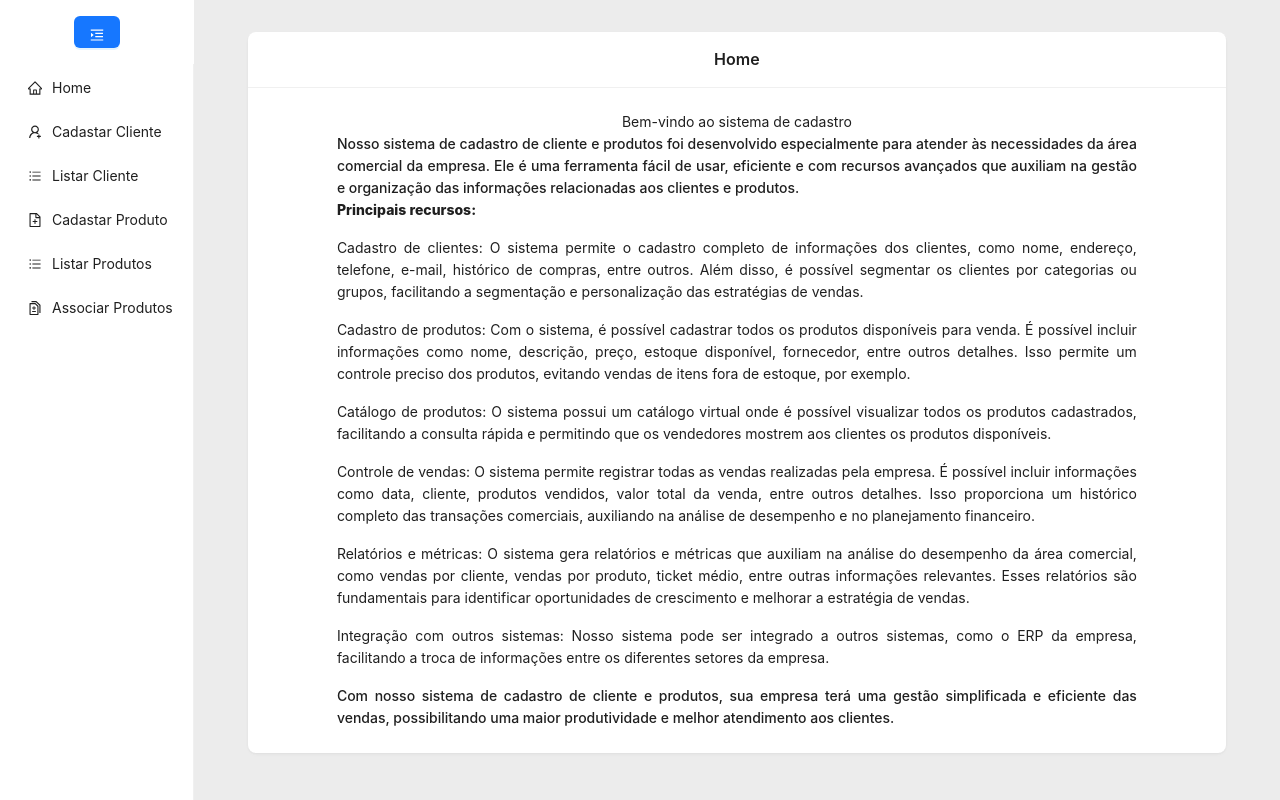
Test: Testing the customer registry page › Checking if it is possible to cancel the creation of a customer
Click the menu item "Cadastar Cliente".
click(95, 132)  # box [28,123,162,140]
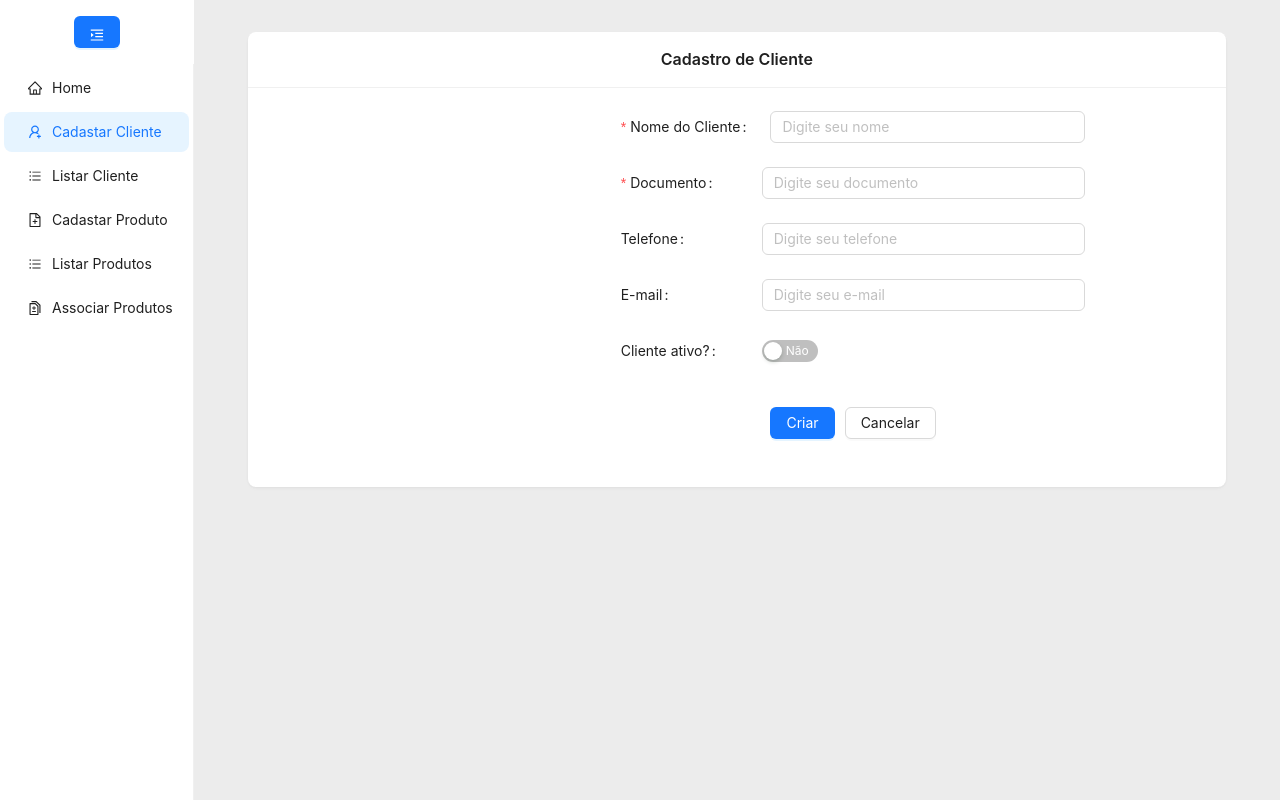
Type "João Silva" into the field with test id "form-name".
click(928, 127); type("João Silva")  # box [770,111,1085,143]
Type "joaosilva@gmail.com" into the field with test id "form-email".
click(924, 295); type("joaosilva@gmail.com")  # box [762,279,1086,311]
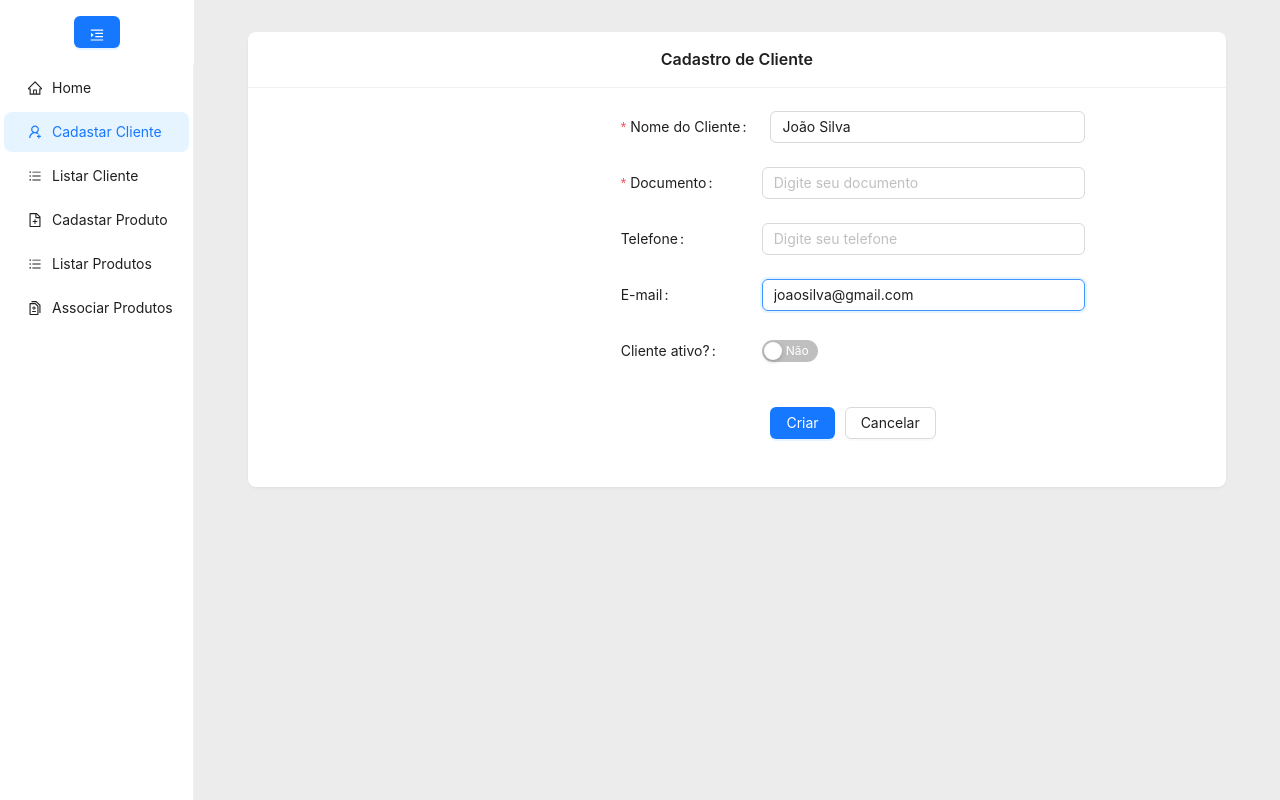
Type "14 998523514" into the field with test id "form-phone".
click(924, 239); type("14 998523514")  # box [762,223,1086,255]
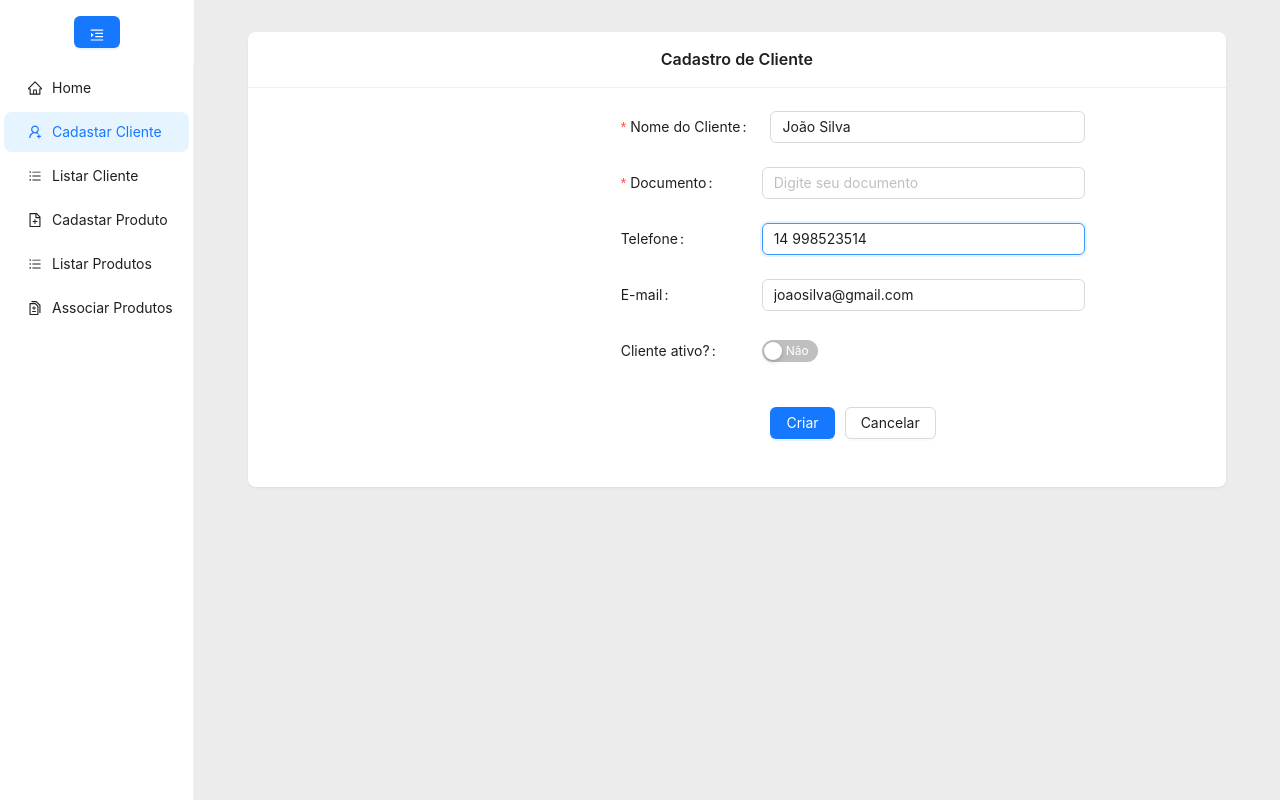
Type "782998523514" into the field with test id "form-document".
click(924, 183); type("782998523514")  # box [762,167,1086,199]
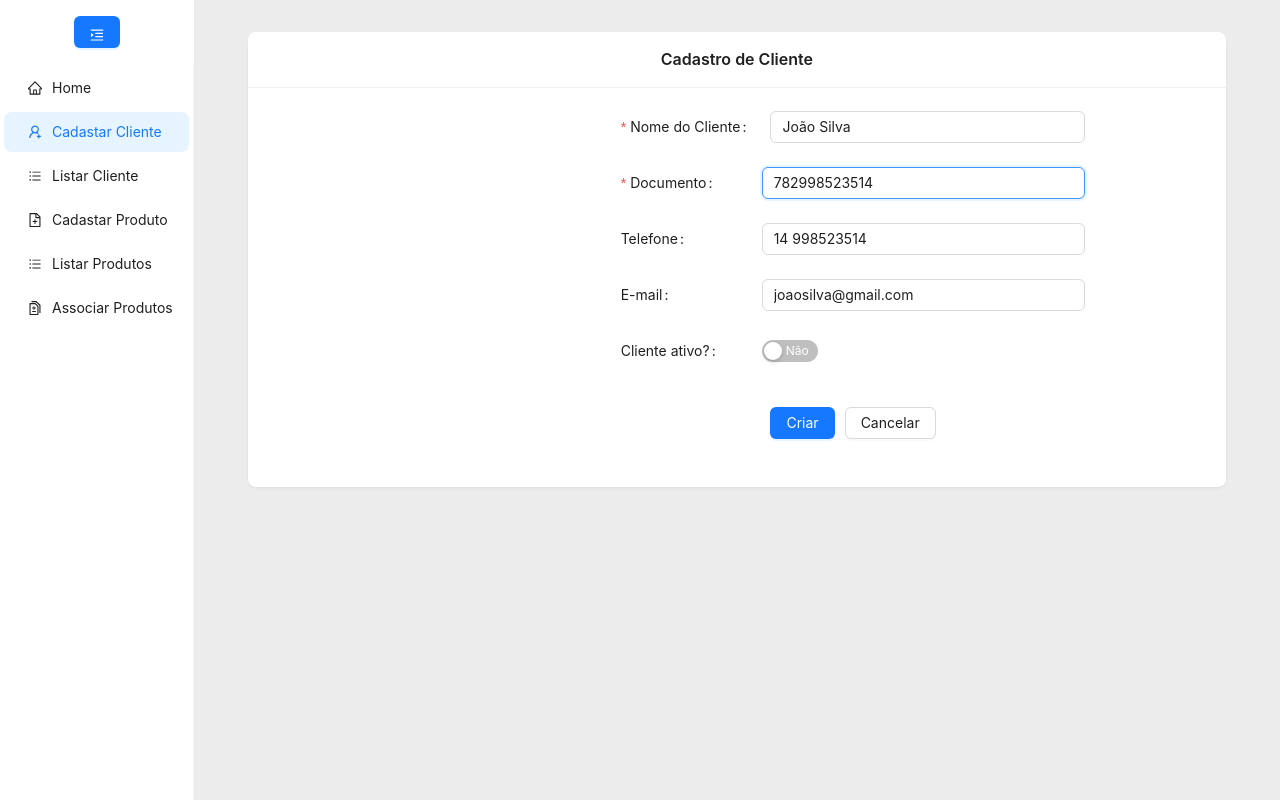
Click the switch with test id "form-active".
click(790, 351)  # box [762,340,818,362]
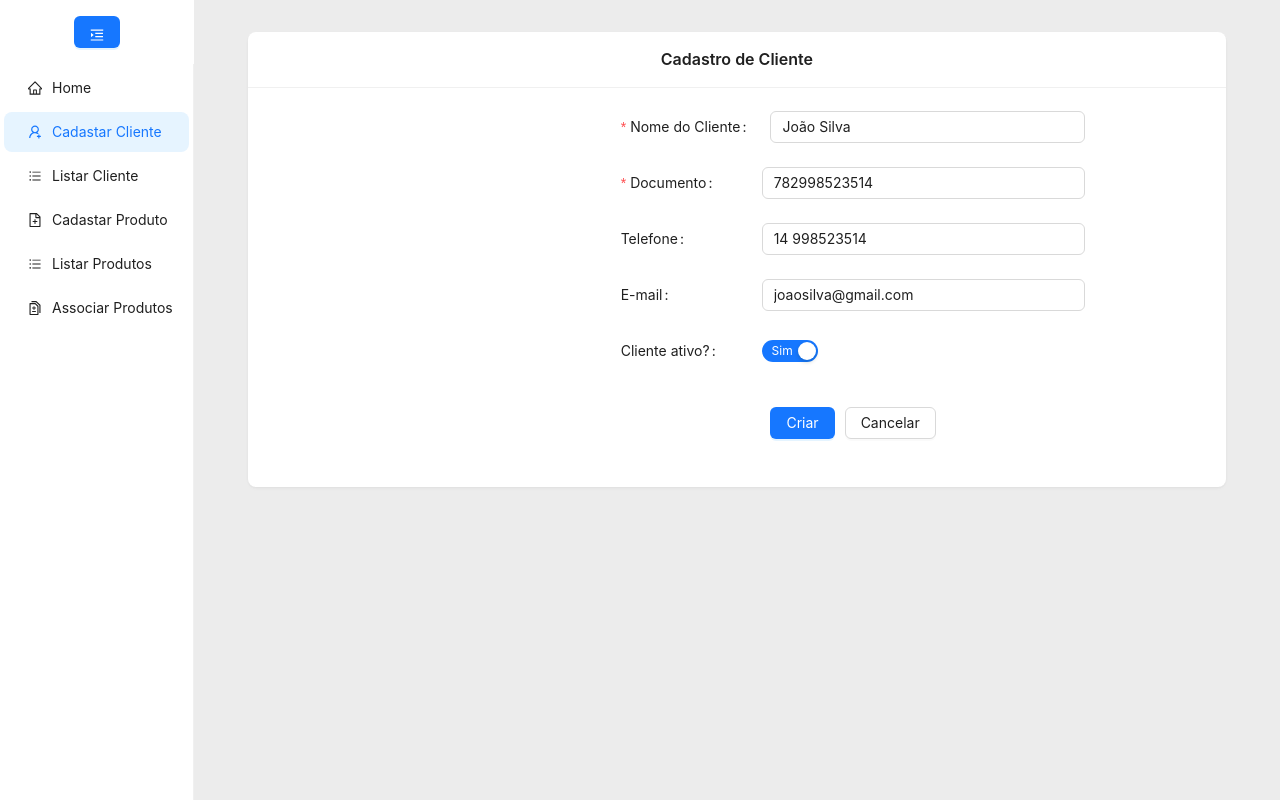
Click the button with test id "btn-customer-cancel".
click(891, 423)  # box [845,407,936,439]
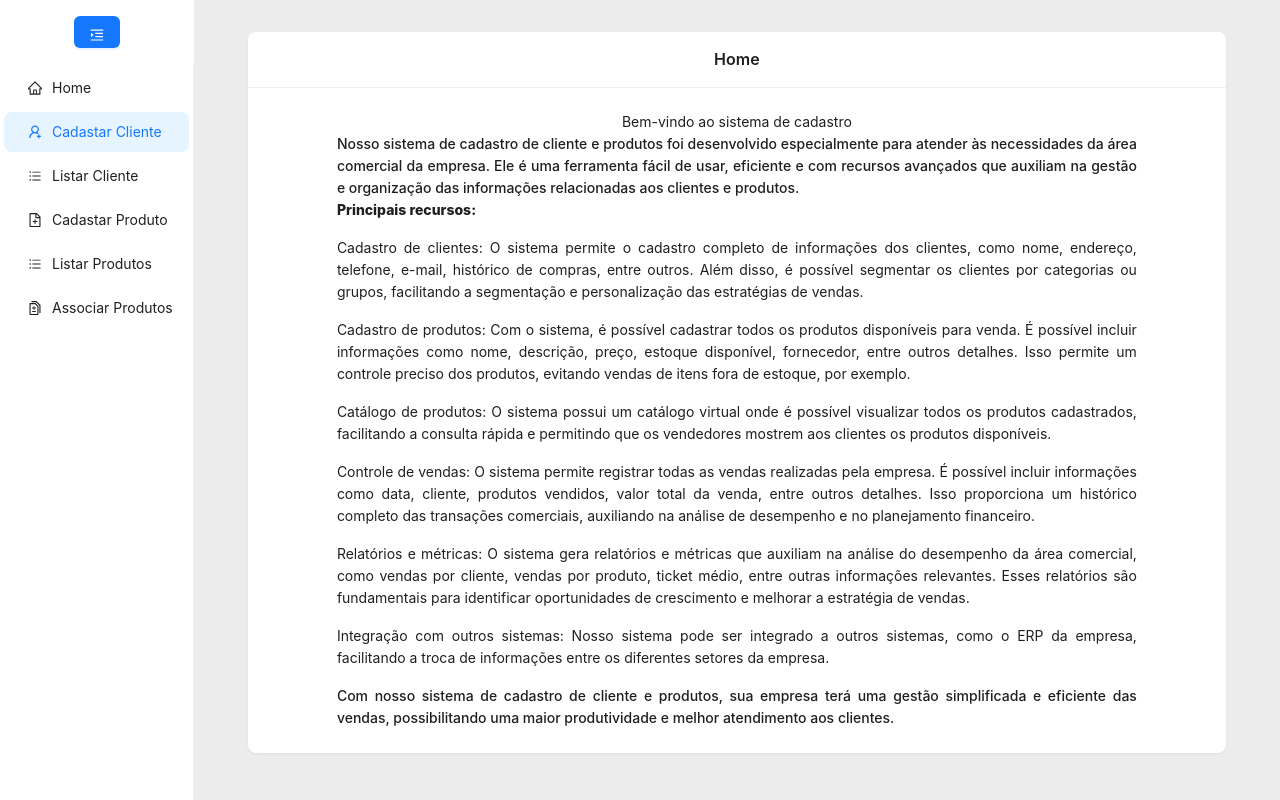
Expected: the heading "Bem-vindo ao sistema de cadastro" is shown, [622,113,852,130]
